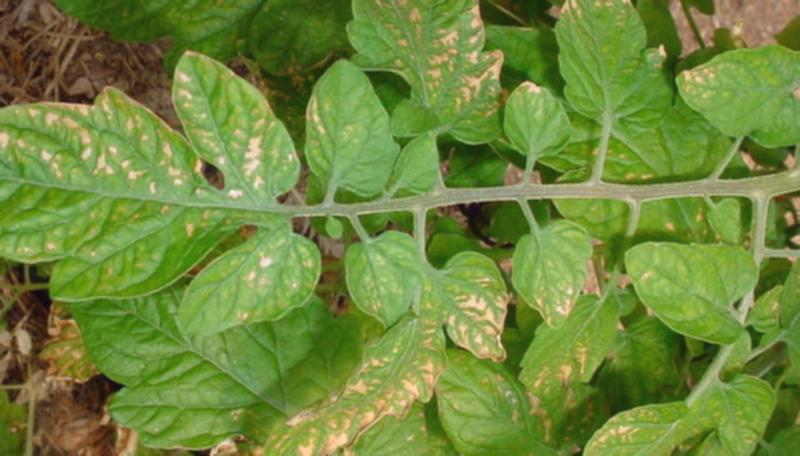Tomato leaf bacterial spot: (257, 224, 536, 456), (0, 64, 253, 315), (300, 0, 503, 184), (643, 10, 800, 189), (161, 33, 313, 214), (525, 0, 701, 140), (613, 225, 748, 380), (287, 58, 400, 206), (177, 224, 324, 333), (509, 193, 601, 326), (497, 73, 580, 172)
